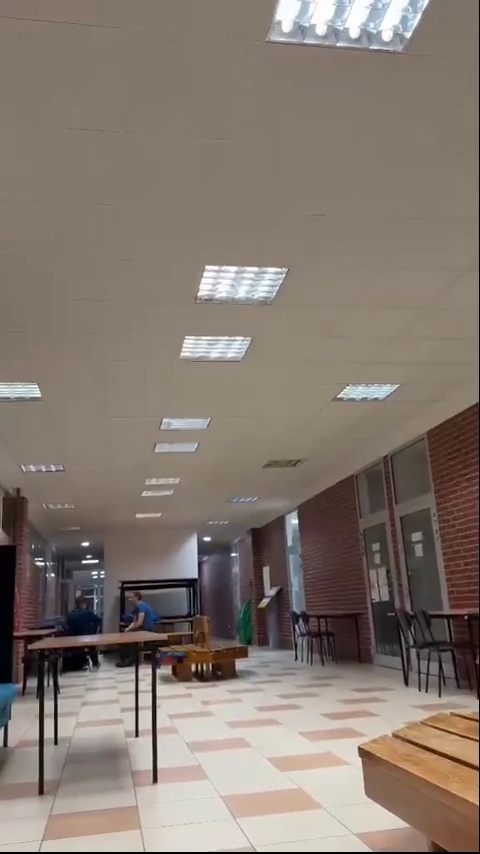drone: (151, 651, 188, 665)
no vest: (67, 591, 101, 634), (123, 590, 154, 636)
